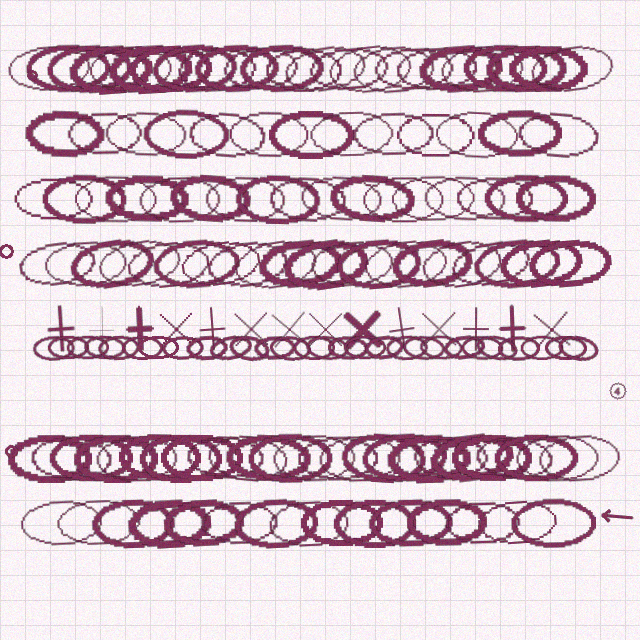chain: (444, 232, 536, 296), (93, 232, 185, 295), (279, 38, 372, 100), (66, 233, 159, 295), (229, 233, 321, 295), (279, 233, 371, 295), (175, 233, 267, 294), (416, 233, 506, 294), (526, 39, 617, 99), (360, 234, 452, 293), (426, 428, 516, 488), (324, 39, 415, 98), (201, 234, 292, 293), (496, 234, 587, 293), (13, 234, 102, 294), (122, 235, 213, 293), (471, 235, 562, 293), (388, 234, 477, 293), (255, 235, 344, 293), (334, 235, 424, 292), (526, 235, 615, 292), (151, 236, 241, 292), (203, 429, 291, 486), (513, 106, 602, 162), (307, 236, 396, 292), (150, 41, 240, 96), (66, 41, 154, 97), (304, 41, 392, 97), (349, 41, 437, 97), (416, 41, 504, 97), (4, 41, 93, 96), (437, 41, 526, 96), (297, 171, 386, 226), (327, 171, 416, 226), (535, 430, 624, 485), (473, 495, 562, 550), (184, 106, 271, 162), (471, 430, 558, 486), (432, 107, 522, 161), (172, 41, 260, 96), (339, 430, 427, 485), (360, 430, 448, 485), (17, 496, 106, 550), (106, 41, 193, 96), (167, 171, 254, 226), (45, 42, 133, 96), (127, 42, 215, 96), (392, 42, 480, 96), (41, 237, 129, 291), (265, 496, 353, 550), (218, 41, 304, 96), (125, 496, 212, 550), (232, 496, 319, 550), (86, 42, 174, 95), (193, 42, 281, 95), (238, 42, 326, 95), (421, 172, 509, 225), (54, 496, 142, 549), (161, 496, 247, 550), (27, 431, 114, 484), (102, 108, 190, 160), (307, 108, 395, 160), (234, 173, 322, 225), (316, 432, 404, 484), (265, 172, 351, 225), (142, 108, 231, 159), (513, 432, 602, 483), (349, 108, 436, 160), (224, 432, 311, 484), (183, 431, 268, 484), (370, 43, 456, 95), (136, 173, 222, 225), (93, 432, 179, 484), (385, 432, 471, 484), (367, 497, 453, 549), (25, 43, 112, 94), (462, 43, 549, 94), (41, 173, 128, 224), (389, 173, 476, 224), (247, 432, 334, 483), (270, 432, 357, 483), (484, 43, 569, 95), (90, 497, 175, 549), (197, 497, 282, 549), (226, 108, 312, 159), (476, 108, 562, 159), (72, 173, 158, 224), (103, 173, 189, 224), (117, 432, 203, 483), (294, 432, 380, 483), (510, 497, 596, 548), (23, 108, 107, 160), (441, 497, 525, 549), (267, 109, 354, 159), (493, 433, 580, 483), (202, 173, 287, 224), (483, 173, 568, 224), (6, 433, 92, 483), (72, 433, 158, 483), (159, 433, 245, 483), (299, 498, 385, 548), (332, 498, 418, 548), (63, 108, 147, 159), (453, 173, 537, 224), (514, 173, 598, 224), (409, 432, 493, 483), (405, 497, 489, 548), (392, 109, 477, 159), (10, 174, 95, 224), (360, 174, 445, 224), (48, 433, 133, 483), (262, 44, 346, 94), (138, 433, 222, 483), (450, 433, 534, 483), (507, 44, 590, 94), (207, 332, 254, 364), (227, 332, 272, 364), (474, 332, 519, 364), (556, 332, 601, 364), (442, 333, 486, 362), (363, 333, 406, 362), (268, 334, 312, 362), (305, 334, 349, 362), (402, 334, 446, 362), (83, 334, 127, 361), (385, 334, 429, 361), (419, 334, 463, 361), (97, 334, 140, 361), (185, 334, 228, 361), (161, 335, 205, 361), (32, 335, 75, 361), (253, 335, 296, 361), (461, 335, 504, 361), (497, 335, 540, 361), (520, 335, 564, 360), (327, 335, 369, 361), (47, 335, 90, 360), (66, 335, 109, 360), (121, 335, 164, 360), (137, 335, 180, 360), (343, 335, 386, 360), (544, 335, 587, 360), (293, 335, 335, 360)
noise: (598, 508, 634, 524), (607, 380, 628, 401), (3, 443, 20, 460), (0, 242, 15, 260), (26, 69, 38, 81)
single: (373, 301, 429, 357), (262, 302, 316, 356), (524, 302, 578, 356), (34, 302, 87, 355), (185, 302, 238, 355), (114, 303, 166, 355), (336, 303, 388, 355), (150, 303, 201, 354), (225, 303, 276, 354), (413, 303, 464, 354), (487, 303, 538, 354), (76, 304, 126, 354), (300, 304, 350, 354), (451, 304, 501, 354)
